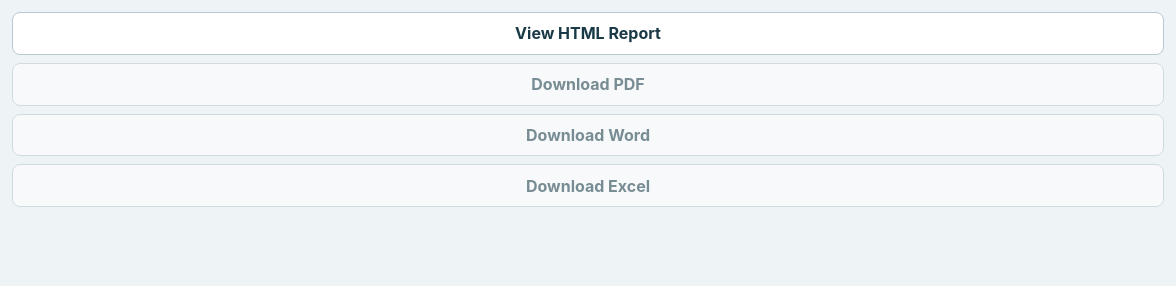
Test: ReportDownloads › handles popup blocking safely
Click the button "View HTML Report" at point(588, 33), box [12,12,1164,55]
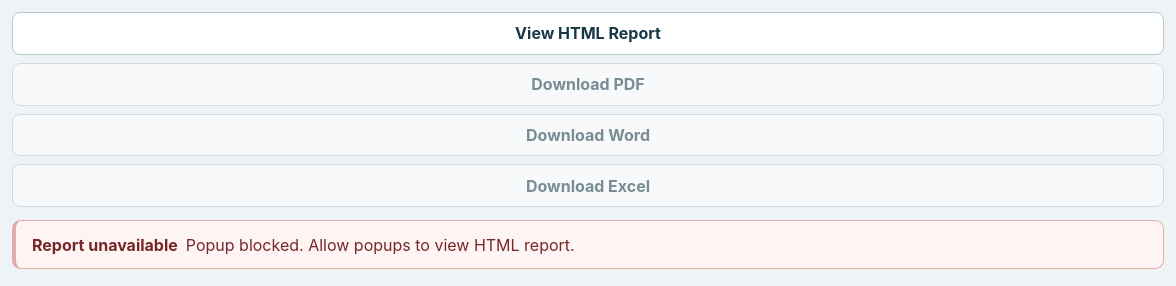
Result: the message shows "Popup blocked" at [186,234,575,254]
